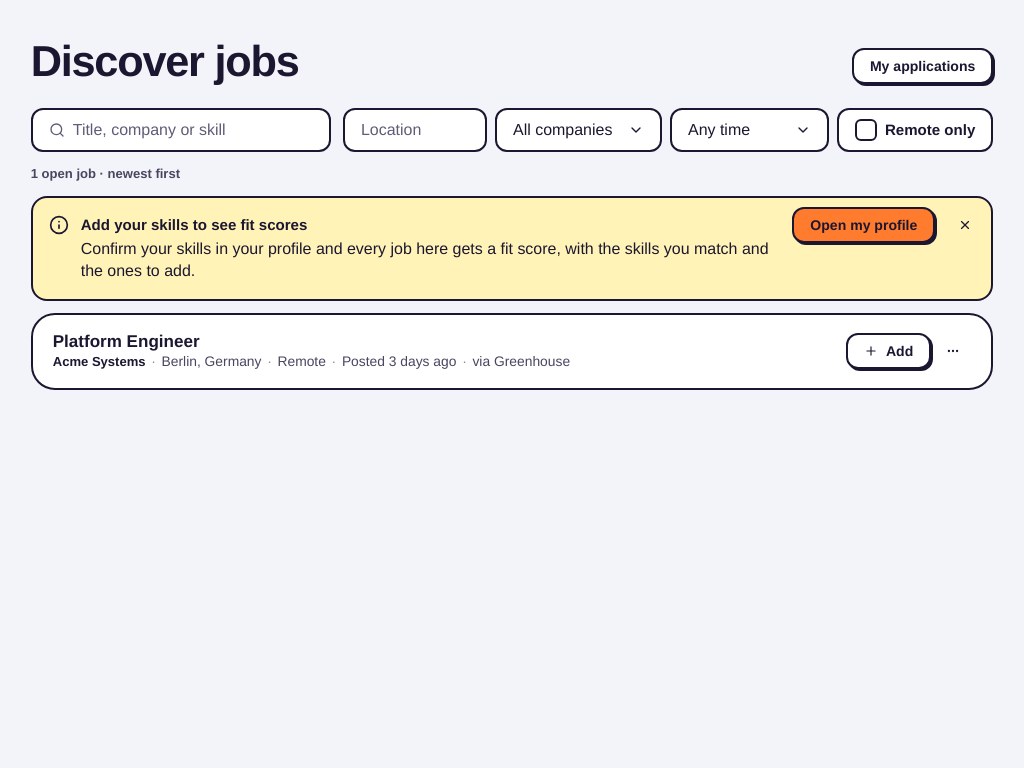
DiscoveryPage › asks the owner to confirm evidence in the drawer instead of showing 0%
Click the button "Platform Engineer". click: (126, 341)
box: [53,330,739,352]
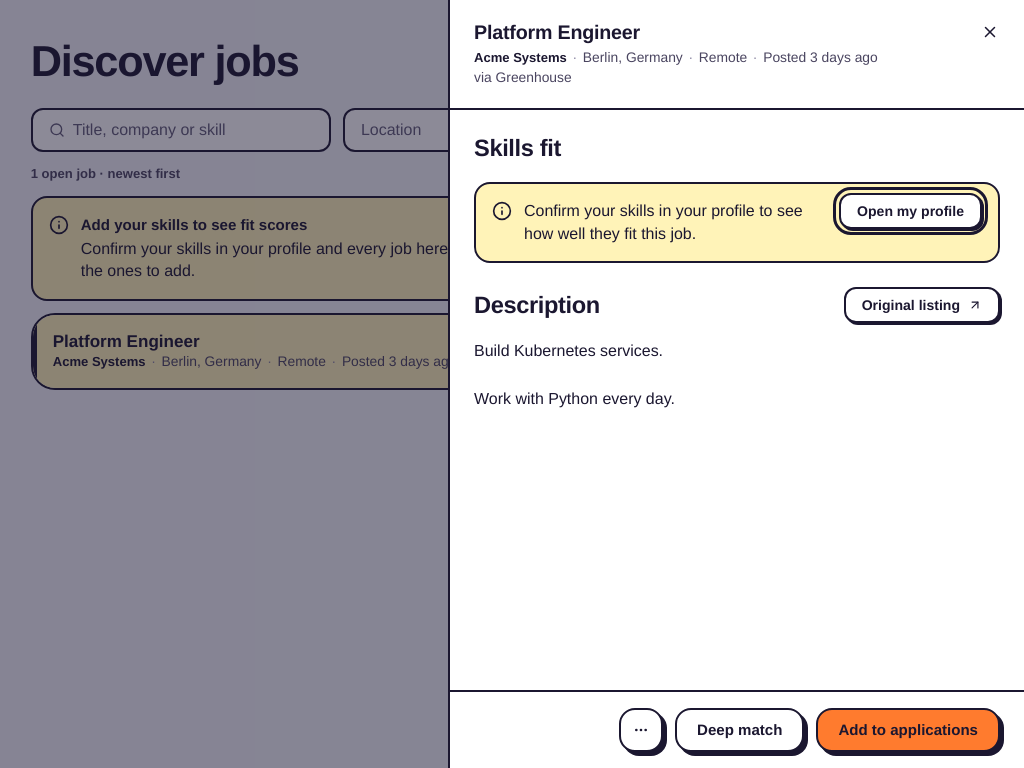
Expected: the text "Confirm your skills in your profile" is shown, [524,201,803,244]
